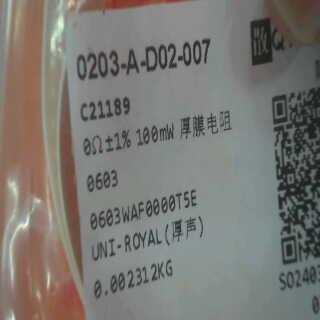0R: (81, 125, 138, 193)
